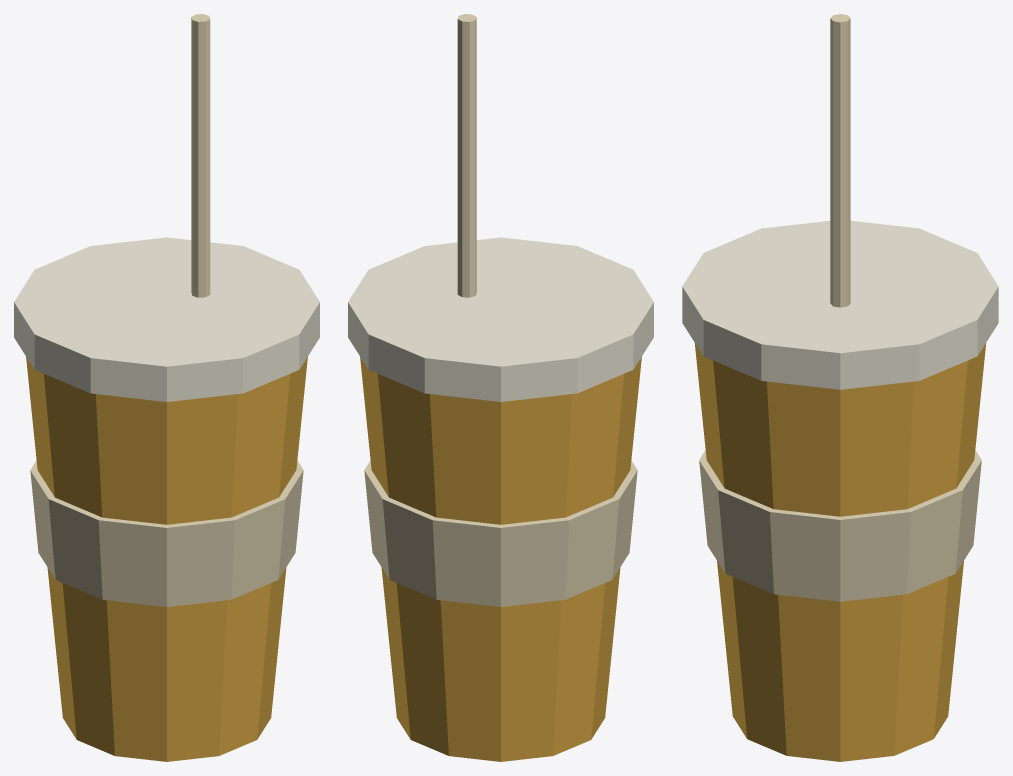
File: Drink_Lemon.glb
3 views of the same model, side by side, from view 1: azimuth 30°, elevation 25°; view 2: azimuth 150°, elevation 25°; view 3: azimuth 270°, elevation 25° (orthographic). The views are drawn at different scales.
Visible parts, largest first — view 1: Drink_Lemon; view 2: Drink_Lemon; view 3: Drink_Lemon.
Part boxes in pixels (<box>): Drink_Lemon: <box>14,14,319,761</box>; Drink_Lemon: <box>348,14,653,761</box>; Drink_Lemon: <box>682,14,998,761</box>.
Size of the model in its own units: 0.094 by 0.2345 by 0.094.
